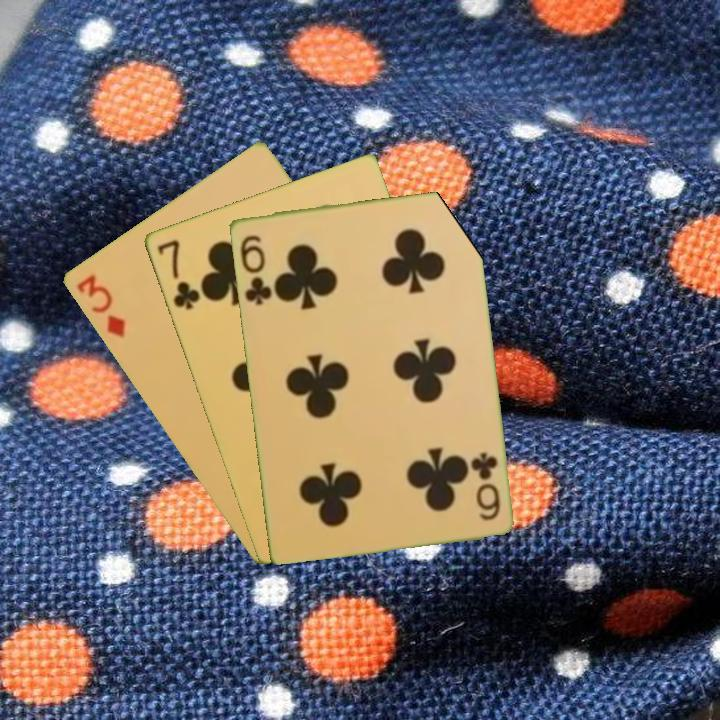3d: (72, 270, 128, 341)
6c: (236, 231, 274, 308), (468, 448, 503, 523)
7c: (153, 236, 203, 313)
